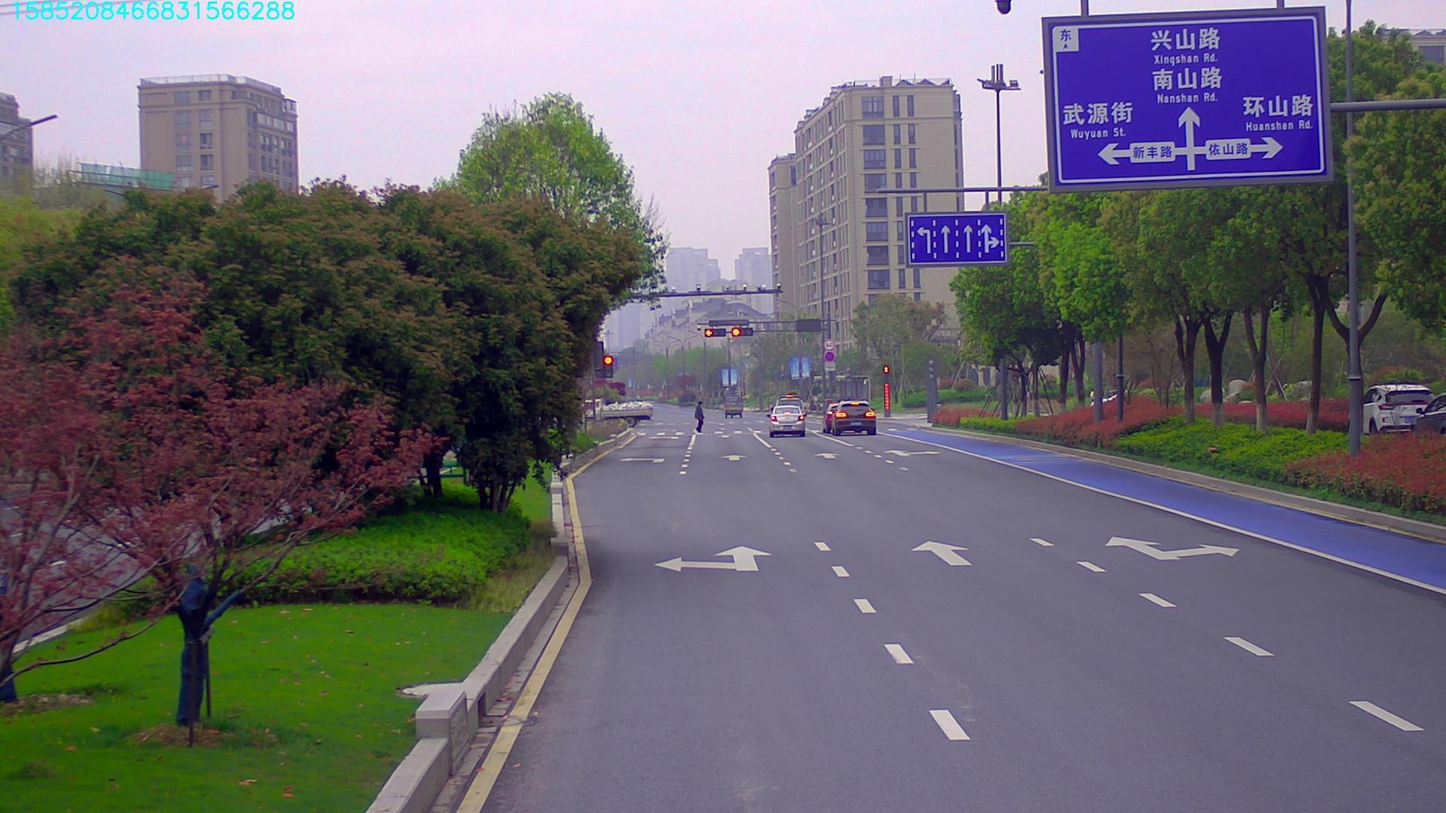red: (729, 324, 751, 335), (704, 328, 724, 337)
